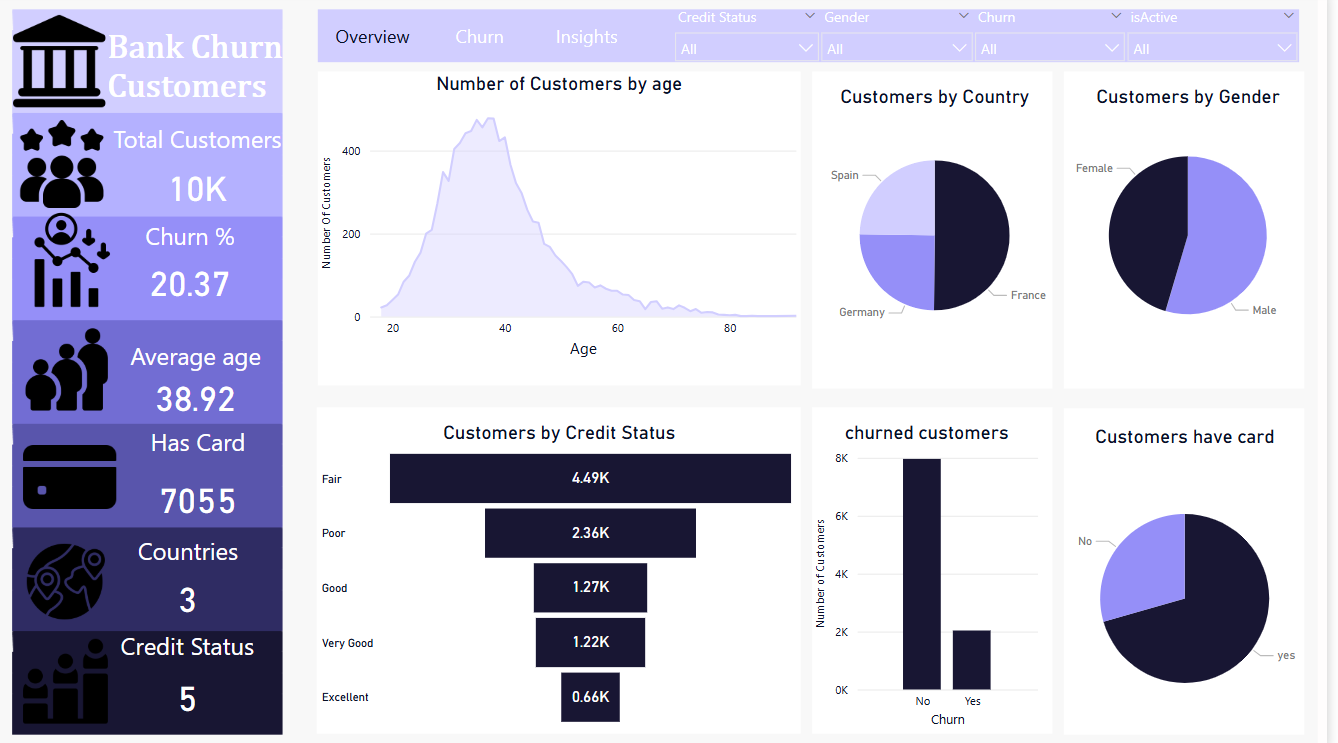

This screenshot's page, from the dashboard's own definition file:
{"tool":"powerbi","page":{"name":"Overview","canvas":[1280,720],"ordinal":0},"visuals":[{"type":"image","box":[0,0,1279.8,720.2],"z":0},{"type":"card","title":"Average age ","fields":{"Values":["measure_table.Age(avg)"]},"box":[79.8,328.6,245.2,78.6],"z":1000},{"type":"pieChart","title":"Customers by Gender","fields":{"Category":["Churn_Modelling.Gender"],"Y":["CountNonNull(Churn_Modelling.CustomerId)"]},"box":[1025,86.9,245.2,265.5],"z":2000},{"type":"pieChart","title":"Customers by Country","fields":{"Y":["CountNonNull(Churn_Modelling.CustomerId)"],"Category":["Churn_Modelling.Geography"]},"box":[788.1,86.9,236.9,265.5],"z":3000},{"type":"pieChart","title":"Customers have card","fields":{"Y":["CountNonNull(Churn_Modelling.CustomerId)"],"Category":["Churn_Modelling.HasCard"]},"box":[1009.5,410.7,270.2,309.5],"z":4000},{"type":"clusteredColumnChart","title":"churned customers","fields":{"Category":["Churn_Modelling.Churn"],"Y":["CountNonNull(Churn_Modelling.CustomerId)"]},"box":[788.1,407.1,221.4,296.4],"z":5000},{"type":"card","title":"Churn %","fields":{"Values":["measure_table.churn%"]},"box":[94,214.3,206,88.1],"z":6000},{"type":"card","title":"Countries","fields":{"Values":["measure_table.countries"]},"box":[94,514.3,202.4,90.5],"z":7000},{"type":"card","title":"Total Customers","fields":{"Values":["measure_table.NumOfCustomers"]},"box":[103.6,121.4,201.2,92.9],"z":8000},{"type":"lineChart","title":"Number of Customers by age","fields":{"Y":["CountNonNull(Churn_Modelling.CustomerId)"],"Category":["Churn_Modelling.Age"]},"box":[317.9,75,461.9,277.4],"z":9000},{"type":"funnel","title":"Customers by Credit Status","fields":{"Category":["Churn_Modelling.CreditStatus"],"Y":["CountNonNull(Churn_Modelling.CustomerId)"]},"box":[317.9,407.1,461.9,296.4],"z":10000},{"type":"image","box":[35.7,307.1,88.1,100],"z":11000},{"type":"slicer","fields":{"Values":["Churn_Modelling.CreditStatus"]},"box":[648.8,7.1,157.1,64.3],"z":12000},{"type":"slicer","fields":{"Values":["Churn_Modelling.Gender"]},"box":[788.1,7.1,164.3,64.3],"z":13000},{"type":"slicer","fields":{"Values":["Churn_Modelling.Churn"]},"box":[934.5,7.1,163.1,67.9],"z":14000},{"type":"slicer","fields":{"Values":["Churn_Modelling.isActive"]},"box":[1079.8,7.1,182.1,67.9],"z":15000},{"type":"textbox","box":[113.1,28.6,198.8,111.9],"z":16000},{"type":"image","box":[13.1,109.5,123.8,104.8],"z":17000},{"type":"card","title":"Credit Status","fields":{"Values":["measure_table.credit_status"]},"box":[97.6,604.8,194,98.8],"z":18000},{"type":"card","title":"Has Card","fields":{"Values":["measure_table.#hasCard"]},"box":[97.6,410.7,214.3,109.5],"z":19000},{"type":"image","box":[33.3,200,103.6,107.1],"z":20000},{"type":"image","box":[33.3,589.3,90.5,131],"z":21000},{"type":"image","box":[33.3,394,98.8,132.1],"z":22000},{"type":"image","box":[36.9,500,84.5,119],"z":23000},{"type":"pageNavigator","box":[325,14.3,298.8,50],"z":24000},{"type":"image","box":[23.8,9.5,97.6,109.5],"z":25000}]}

Visuals, with their boxes in screenshot pixels (x1, y1, x2, y2), scaled from the page's 1280x720 canvas onto the 1338x743 screenshot:
image: 0, 0, 1337, 742
"Average age " card: 83, 339, 340, 420
"Customers by Gender" pieChart: 1071, 90, 1328, 364
"Customers by Country" pieChart: 824, 90, 1071, 364
"Customers have card" pieChart: 1055, 424, 1337, 742
"churned customers" clusteredColumnChart: 824, 420, 1055, 726
"Churn %" card: 98, 221, 314, 312
"Countries" card: 98, 531, 310, 624
"Total Customers" card: 108, 125, 319, 221
"Number of Customers by age" lineChart: 332, 77, 815, 364
"Customers by Credit Status" funnel: 332, 420, 815, 726
image: 37, 317, 129, 420
slicer - Churn_Modelling.CreditStatus: 678, 7, 842, 74
slicer - Churn_Modelling.Gender: 824, 7, 996, 74
slicer - Churn_Modelling.Churn: 977, 7, 1147, 77
slicer - Churn_Modelling.isActive: 1129, 7, 1319, 77
textbox: 118, 30, 326, 145
image: 14, 113, 143, 221
"Credit Status" card: 102, 624, 305, 726
"Has Card" card: 102, 424, 326, 537
image: 35, 206, 143, 317
image: 35, 608, 129, 742
image: 35, 407, 138, 543
image: 39, 516, 127, 639
pageNavigator: 340, 15, 652, 66
image: 25, 10, 127, 123
